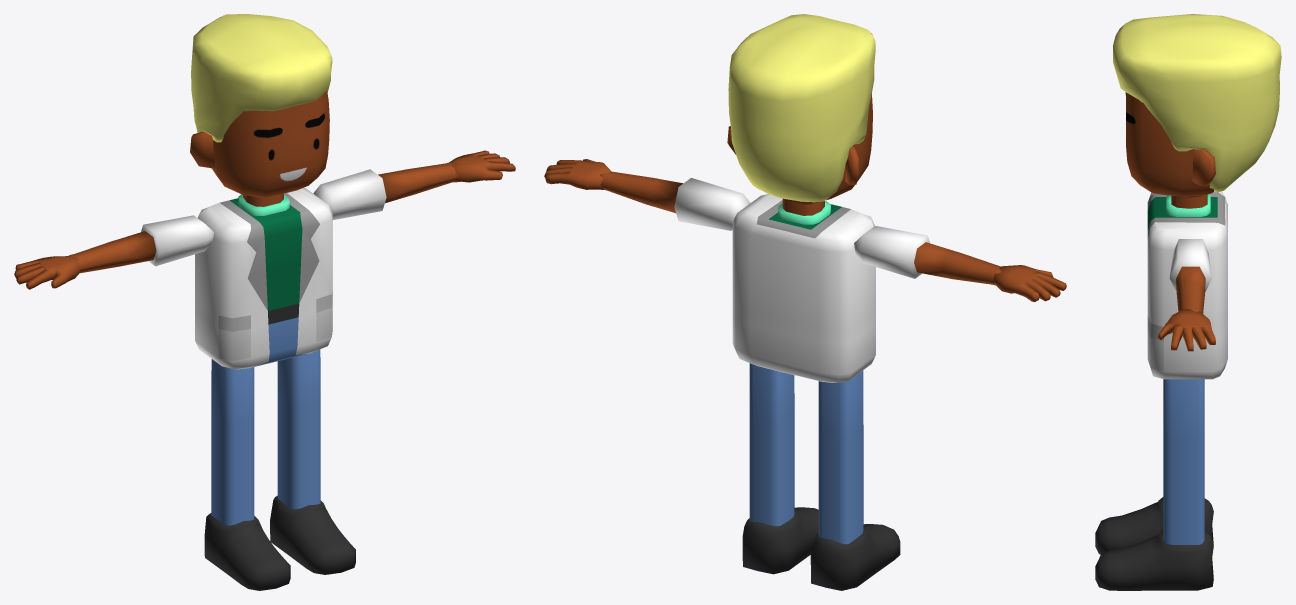
File: NPC_Yellow02_BlondeHair06.gltf
3 renders of one model, left to right at view 1: azimuth 30°, elevation 25°; view 2: azimuth 150°, elevation 25°; view 3: azimuth 270°, elevation 25°, orthographic. The views are drawn at different scales.
Visible parts, largest first — view 1: NPC_Corpo_Yellow2_BlondeHair.006; view 2: NPC_Corpo_Yellow2_BlondeHair.006; view 3: NPC_Corpo_Yellow2_BlondeHair.006.
Part boxes in pixels (x1,y1,x2,y2): NPC_Corpo_Yellow2_BlondeHair.006: [14, 14, 515, 590]; NPC_Corpo_Yellow2_BlondeHair.006: [544, 14, 1066, 590]; NPC_Corpo_Yellow2_BlondeHair.006: [1095, 14, 1281, 590].
Bounding box in the file's own units: 2.31 × 2.31 × 0.7282.
1 material, 1 textured.
